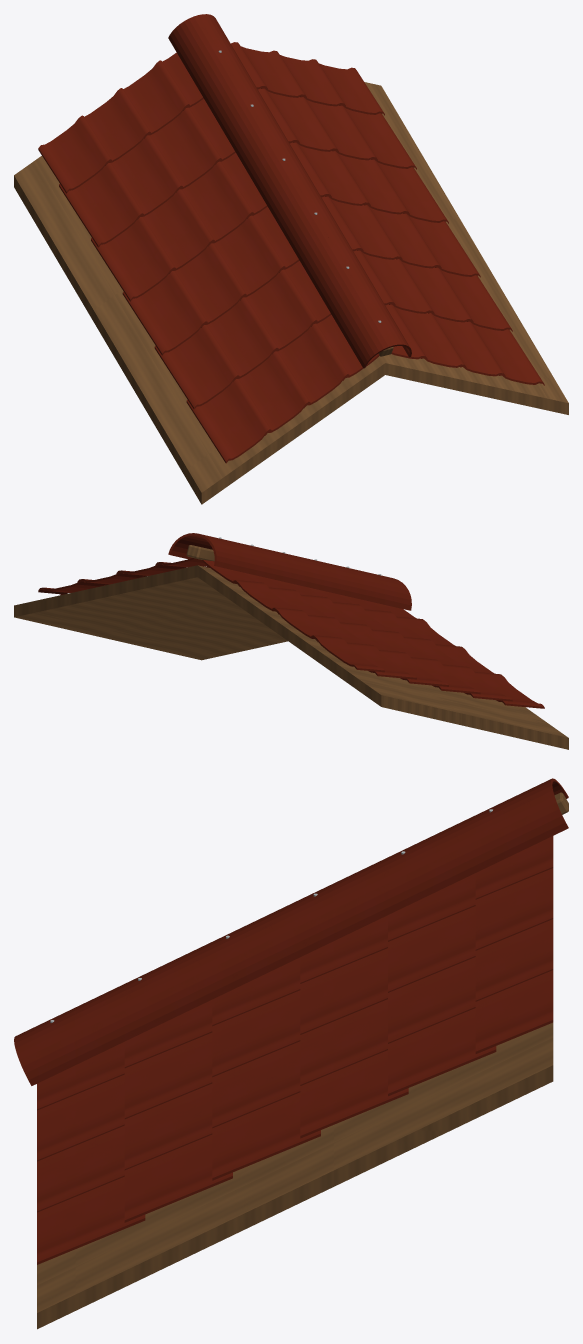
File: modell.glb
3 views of the same model, one above another, from view 1: azimuth 30°, elevation 25°; view 2: azimuth 150°, elevation 25°; view 3: azimuth 270°, elevation 25° (orthographic). The views are drawn at different scales.
Parts seen in each view (by area): view 1: w01-ziegel_deckung, w01-walmflaeche_tragwerk, w01-gratziegel_deckung; view 2: w01-walmflaeche_tragwerk, w01-ziegel_deckung, w01-gratziegel_deckung, w01-gratlatte_lattung; view 3: w01-ziegel_deckung, w01-gratziegel_deckung, w01-walmflaeche_tragwerk.
Boxes of the visible parts, <box> form: w01-ziegel_deckung: <box>38,42,544,463</box>; w01-walmflaeche_tragwerk: <box>14,82,568,504</box>; w01-gratziegel_deckung: <box>168,14,411,368</box>; w01-walmflaeche_tragwerk: <box>14,565,568,749</box>; w01-ziegel_deckung: <box>38,558,544,708</box>; w01-gratziegel_deckung: <box>168,533,411,610</box>; w01-gratlatte_lattung: <box>186,545,214,561</box>; w01-ziegel_deckung: <box>37,836,553,1264</box>; w01-gratziegel_deckung: <box>14,778,568,1085</box>; w01-walmflaeche_tragwerk: <box>37,1022,553,1329</box>.
Bounding box in the file's own units: 2.26 × 1.81 × 2.15.
3 materials, 2 textured.
